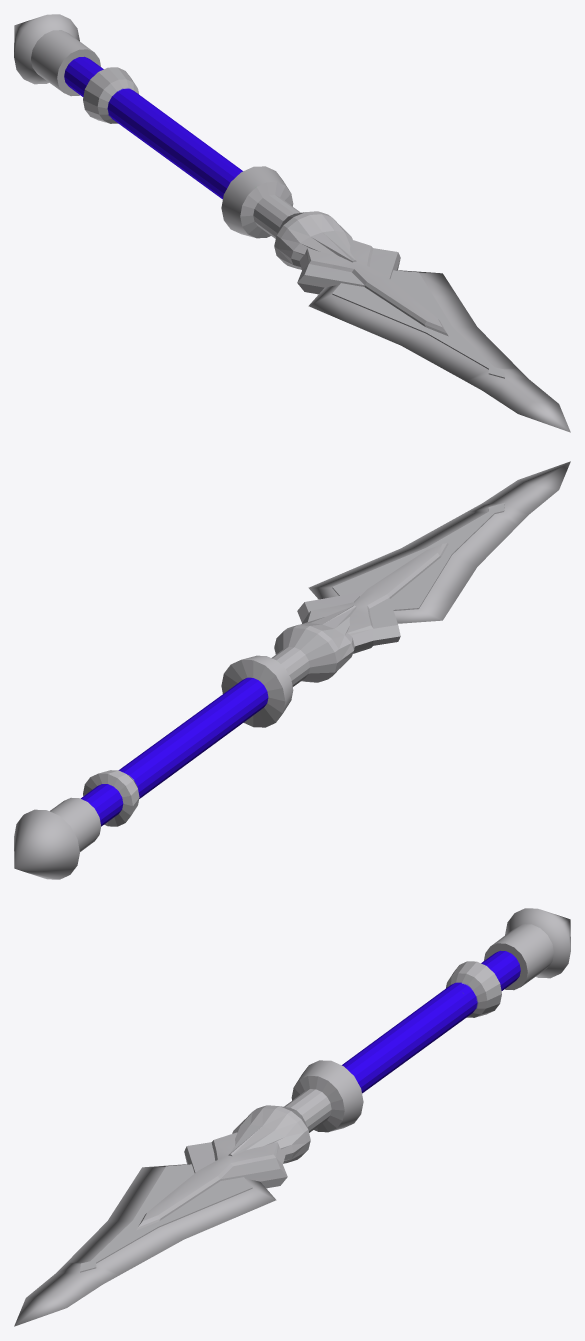
File: spear.glb
3 renders of one model, top to bottom at view 1: azimuth 30°, elevation 25°; view 2: azimuth 150°, elevation 25°; view 3: azimuth 330°, elevation 25°, orthographic.
Visible parts, largest first — view 1: Cylinder002_Material #48_0; view 2: Cylinder002_Material #48_0; view 3: Cylinder002_Material #48_0.
Part boxes in pixels (bbox=[...]): Cylinder002_Material #48_0: bbox=[14, 14, 570, 432]; Cylinder002_Material #48_0: bbox=[14, 461, 570, 879]; Cylinder002_Material #48_0: bbox=[14, 908, 570, 1326].
Bounding box in the file's own units: 0.1669 × 0.082 × 1.2.
1 material, 1 textured.
